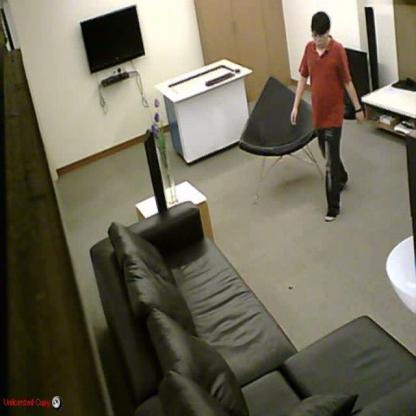Person: (291, 12, 365, 222)
